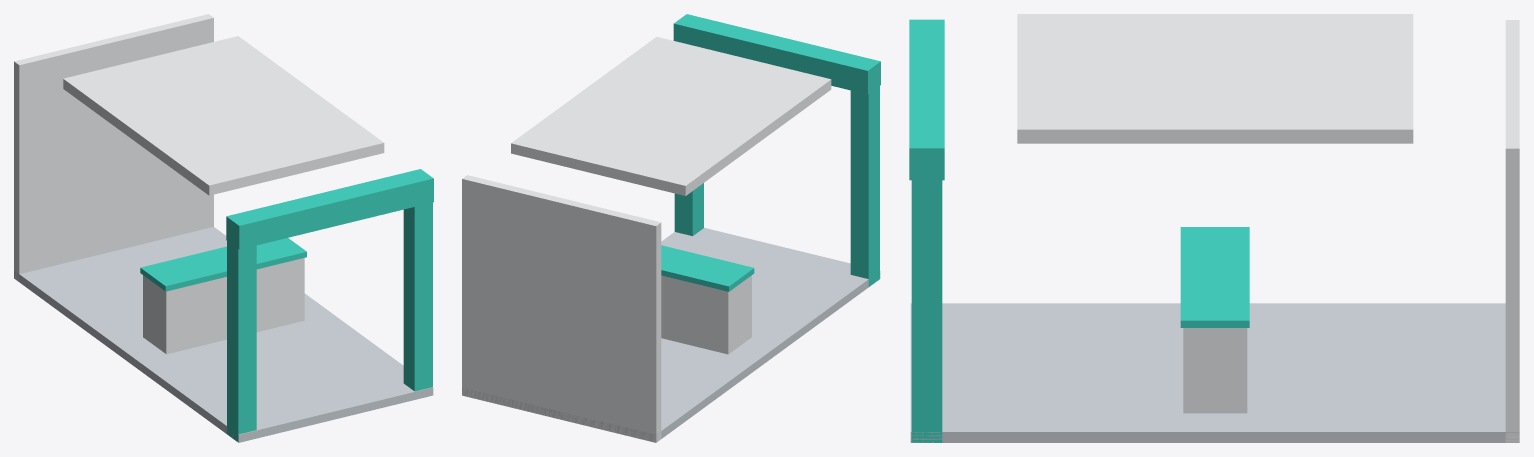
The picture shows the model from 3 angles, left to right: view 1: azimuth 30°, elevation 25°; view 2: azimuth 150°, elevation 25°; view 3: azimuth 270°, elevation 25°; orthographic projection. The views are drawn at different scales.
Visible parts, largest first — view 1: Exhibition Booth Concept; view 2: Exhibition Booth Concept; view 3: Exhibition Booth Concept.
Boxes of the visible parts, x1,y1,x2,y2 form: Exhibition Booth Concept: [14, 14, 433, 442]; Exhibition Booth Concept: [462, 14, 880, 442]; Exhibition Booth Concept: [909, 14, 1519, 442].
Size of the model in its own units: 3 by 3.34 by 6.02.
